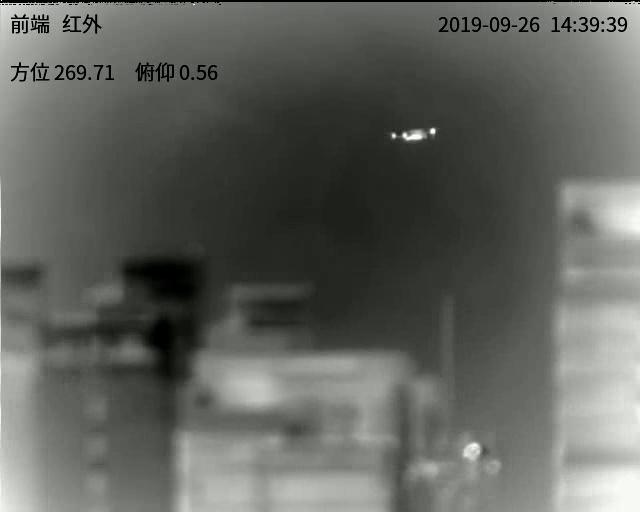DRONE: (388, 123, 438, 143)
